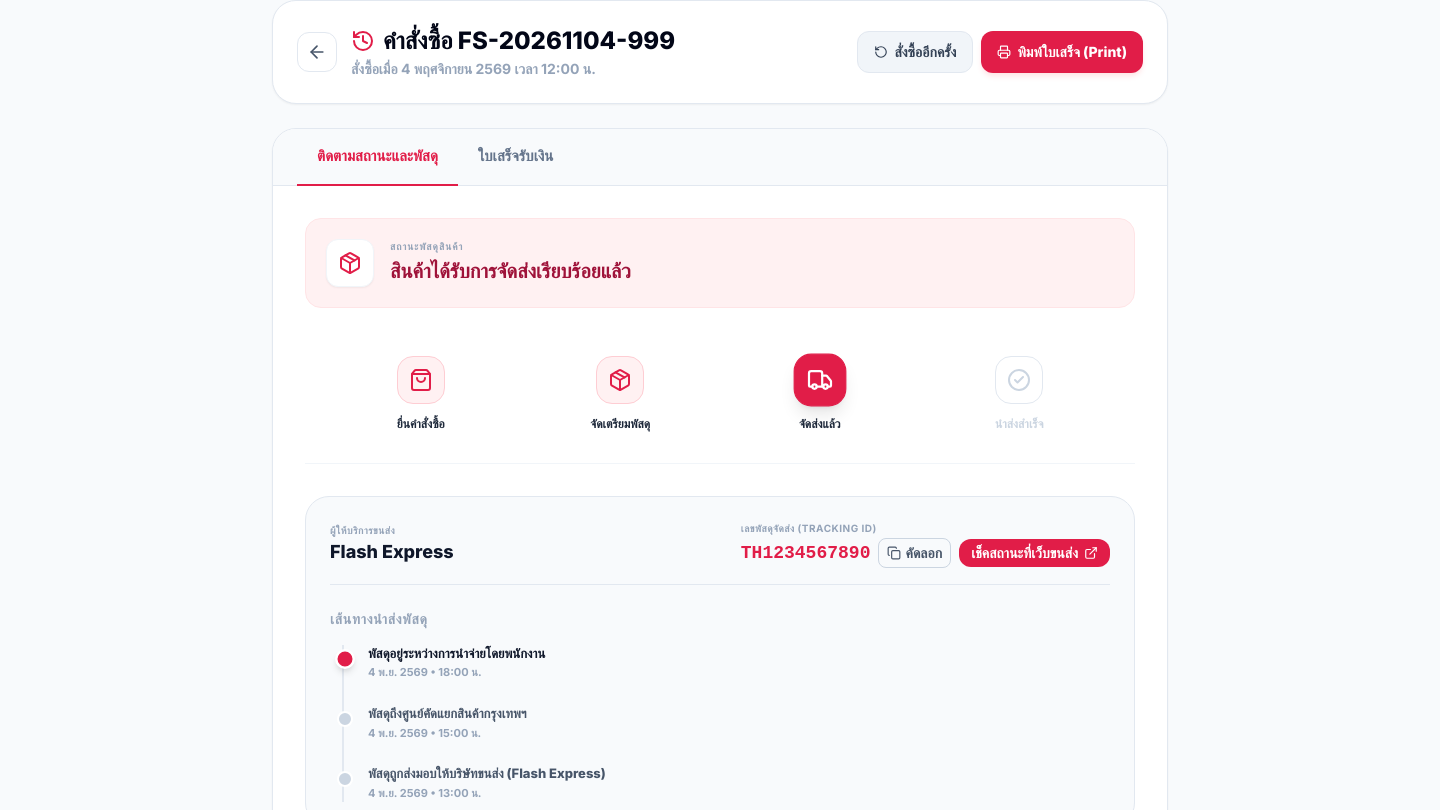
OrderDetailPage & Tracking Timeline › OrderDetailPage Component › handles copying tracking number
expect the text "TH1234567890" is shown: met, box [741,538,870,566]
Click the button titled "คัดลอกเลขพัสดุ" at (915, 552), box [878,538,951,568]
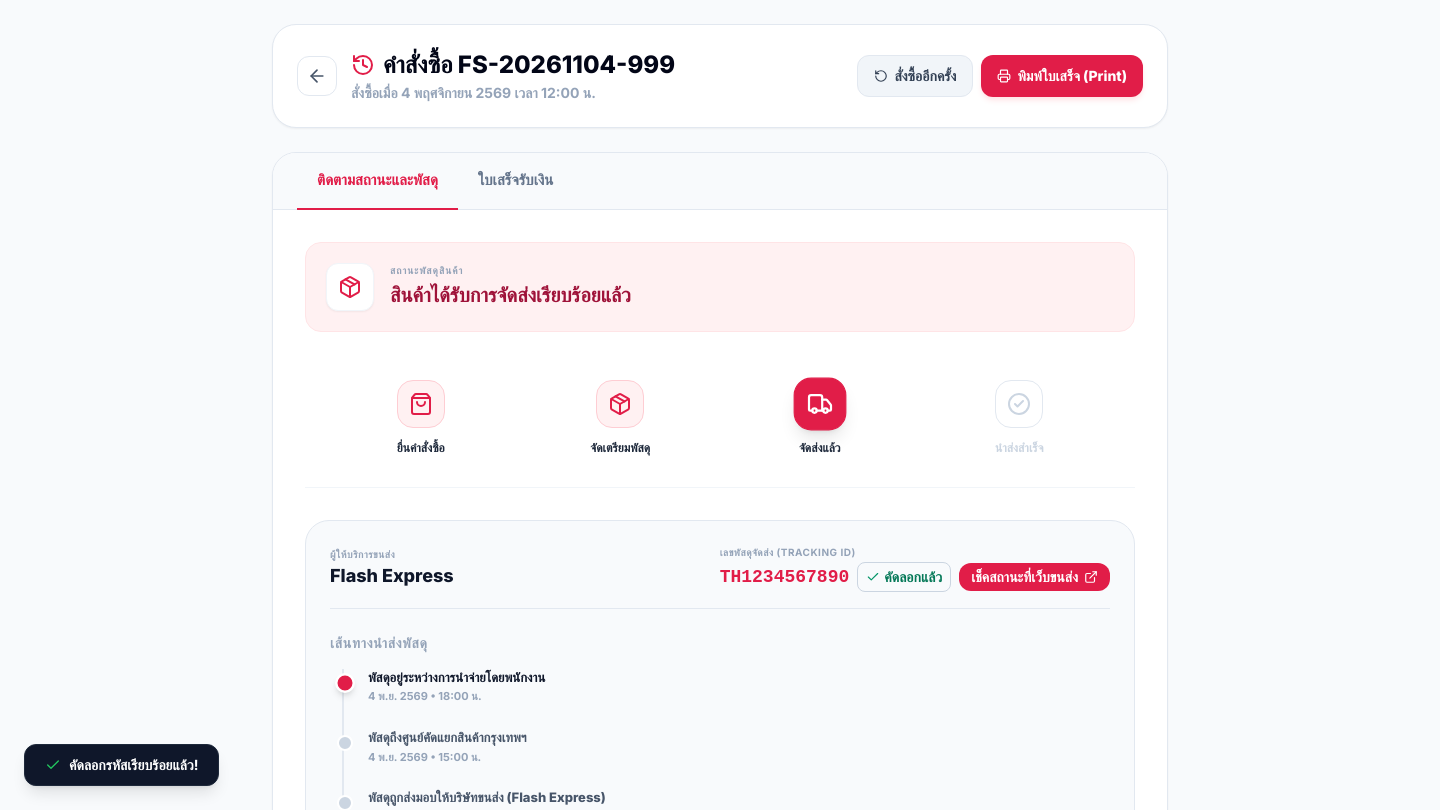
expect the text "คัดลอกแล้ว" is shown: met, box [884,566,942,586]
